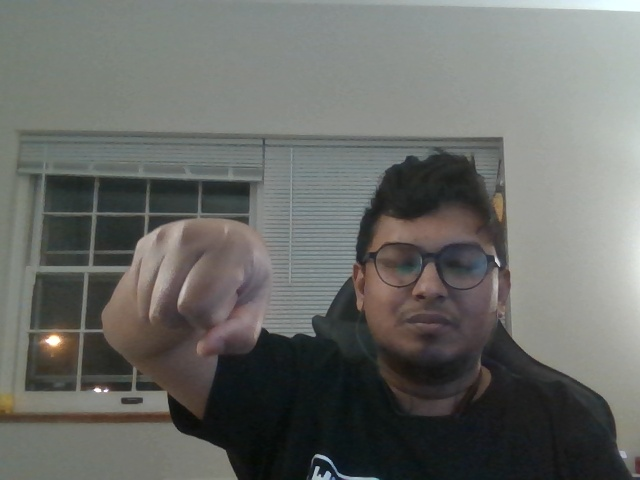yes: (102, 202, 308, 389)
